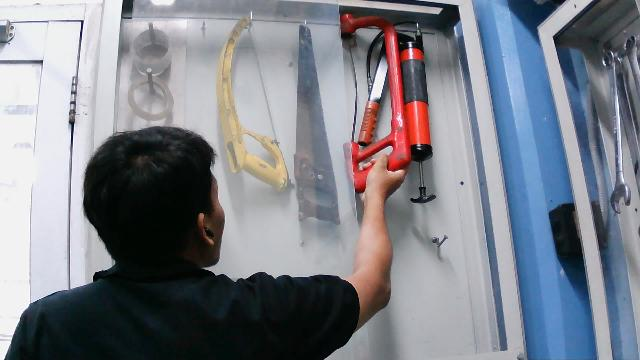gergaji_besi: (336, 13, 413, 195)
